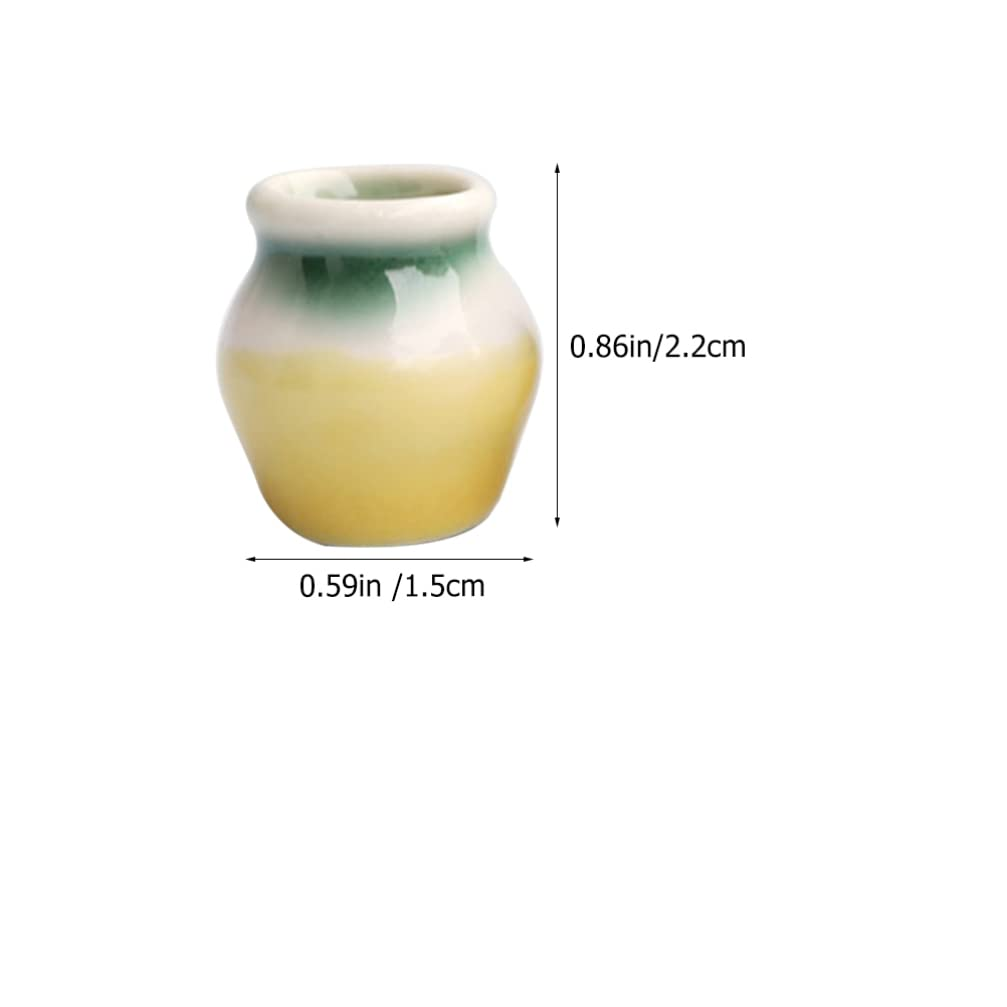/1.5cm: (392, 573, 484, 602)
0.59in: (300, 573, 381, 597)
0.86in/2.2cm: (570, 333, 745, 362)
